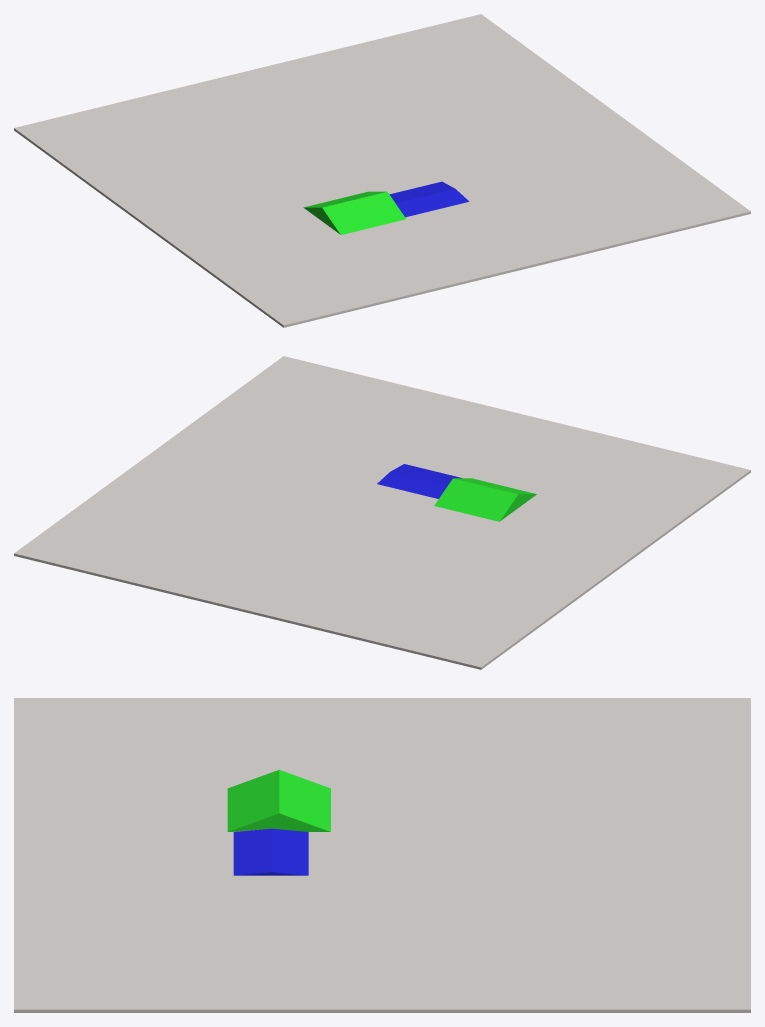
Rendered from spot_stage.dae.
The picture shows the model from 3 angles, top to bottom: view 1: azimuth 30°, elevation 25°; view 2: azimuth 150°, elevation 25°; view 3: azimuth 270°, elevation 25°; orthographic projection. The views are drawn at different scales.
Parts seen in each view (by area): view 1: spot_stage v1; view 2: spot_stage v1; view 3: spot_stage v1.
Boxes of the visible parts, left/top/right/bottom form: spot_stage v1: left=14, top=14, right=750, bottom=327; spot_stage v1: left=14, top=356, right=750, bottom=669; spot_stage v1: left=14, top=698, right=750, bottom=1012.
Bounding box in the file's own units: 20 × 20 × 0.6599.
